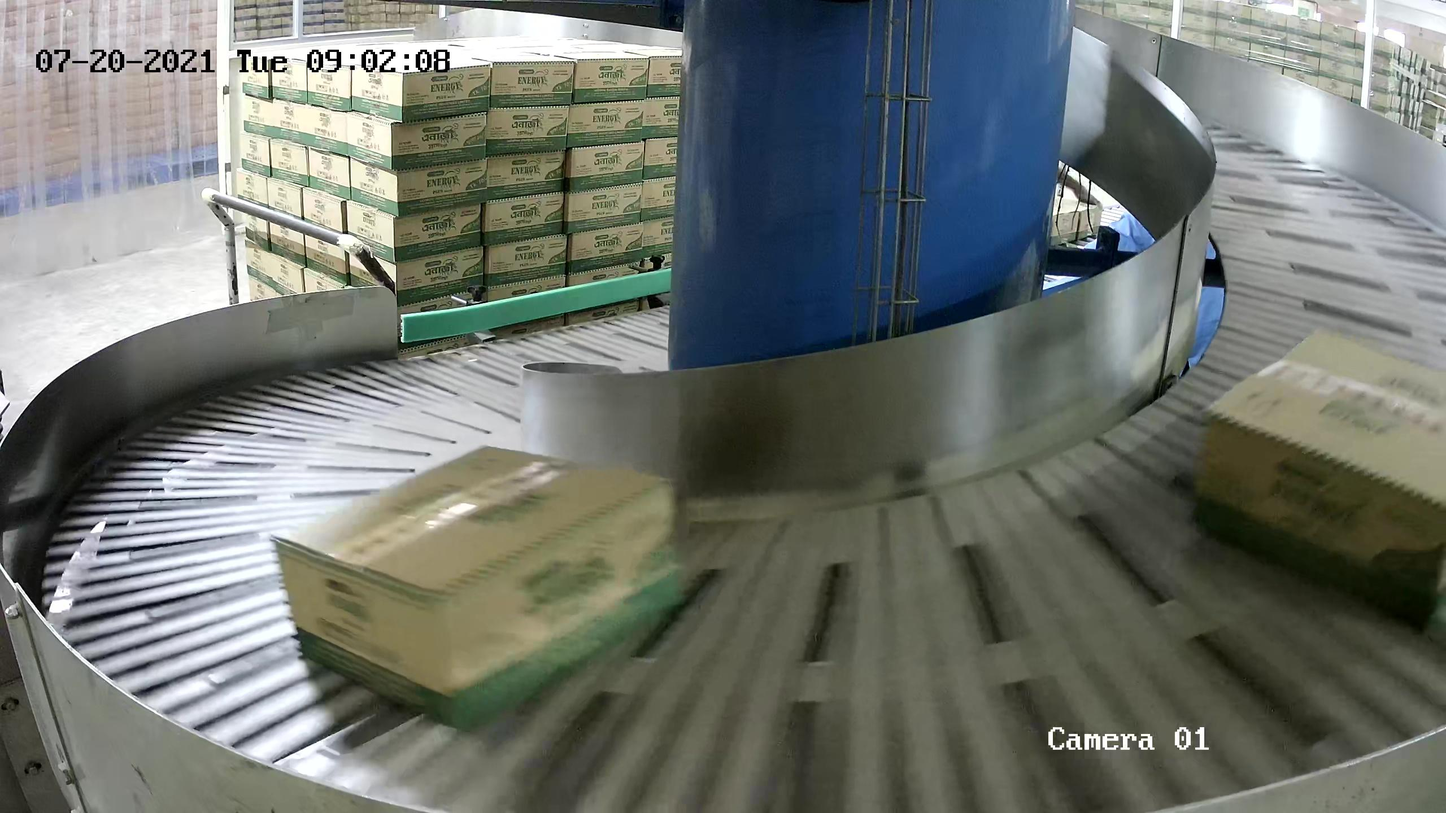Box: (268, 442, 688, 732), (1187, 323, 1446, 637)
